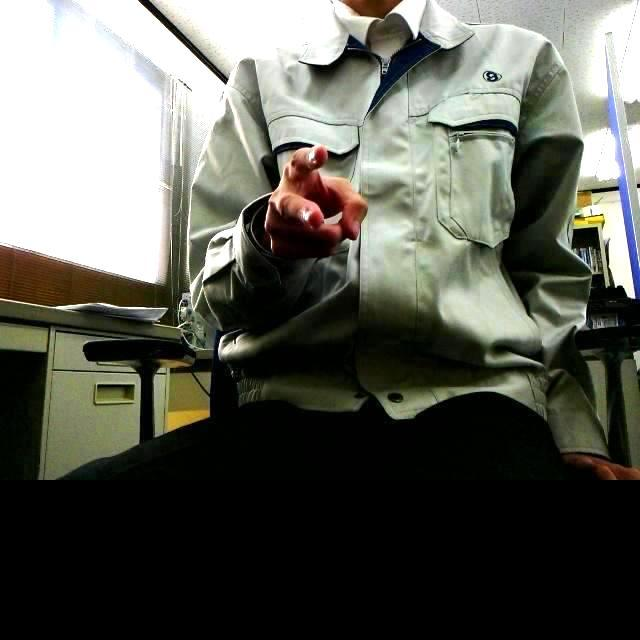tyoki: (263, 141, 369, 259)
